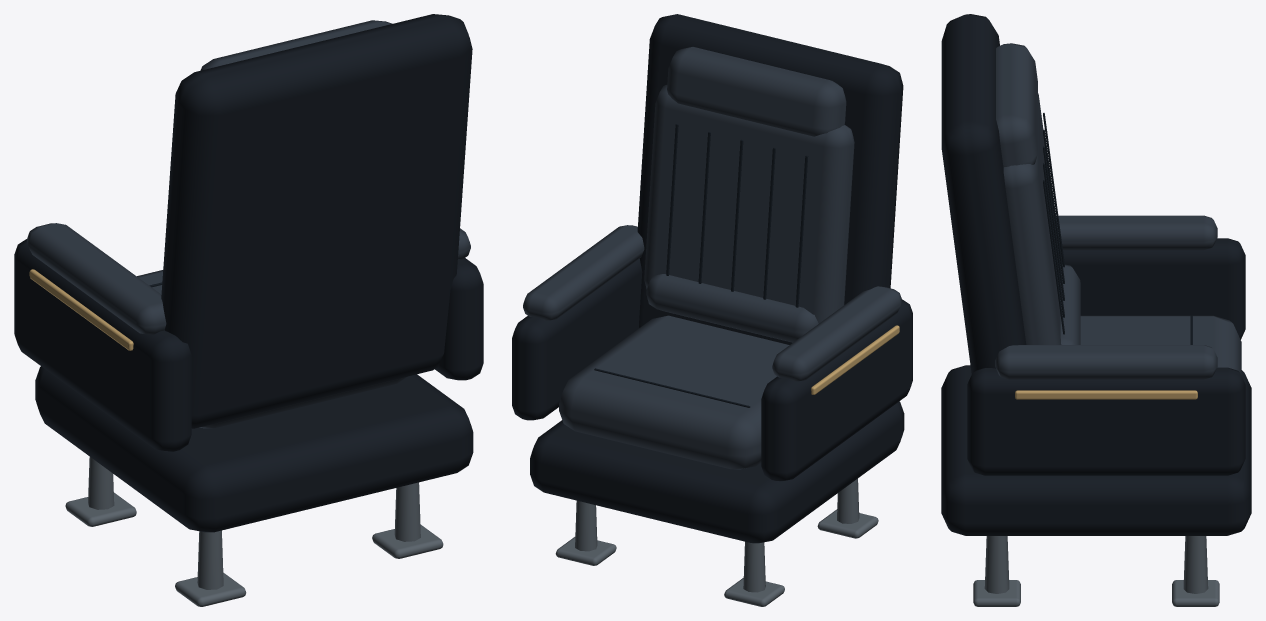
File: observatory-chair-reduced.glb
The picture shows the model from 3 angles, left to right: view 1: azimuth 30°, elevation 25°; view 2: azimuth 150°, elevation 25°; view 3: azimuth 270°, elevation 25°; orthographic projection. The views are drawn at different scales.
Visible parts, largest first — view 1: chair-shell, chair-cushion, chair-metal, chair-trim; view 2: chair-cushion, chair-shell, chair-metal, chair-seam, chair-trim; view 3: chair-shell, chair-cushion, chair-metal, chair-seam, chair-trim.
Boxes of the visible parts, left/top/right/bottom form: chair-shell: left=14, top=14, right=483, bottom=532; chair-cushion: left=27, top=20, right=470, bottom=428; chair-metal: left=65, top=457, right=443, bottom=606; chair-trim: left=29, top=269, right=133, bottom=350; chair-cushion: left=523, top=47, right=901, bottom=469; chair-shell: left=512, top=14, right=912, bottom=543; chair-metal: left=555, top=478, right=878, bottom=606; chair-seam: left=594, top=124, right=808, bottom=407; chair-trim: left=811, top=325, right=899, bottom=394; chair-shell: left=941, top=14, right=1251, bottom=535; chair-cushion: left=995, top=43, right=1241, bottom=379; chair-metal: left=973, top=536, right=1219, bottom=606; chair-seam: left=1043, top=113, right=1192, bottom=344; chair-trim: left=1015, top=390, right=1197, bottom=399.
Bounding box in the file's own units: 0.896 × 1.35 × 0.78.
